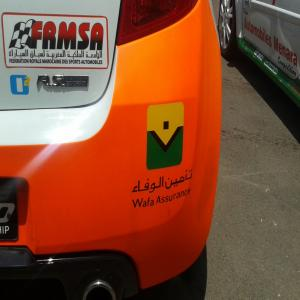Vehicle-registration-plate: (1, 181, 20, 244)
